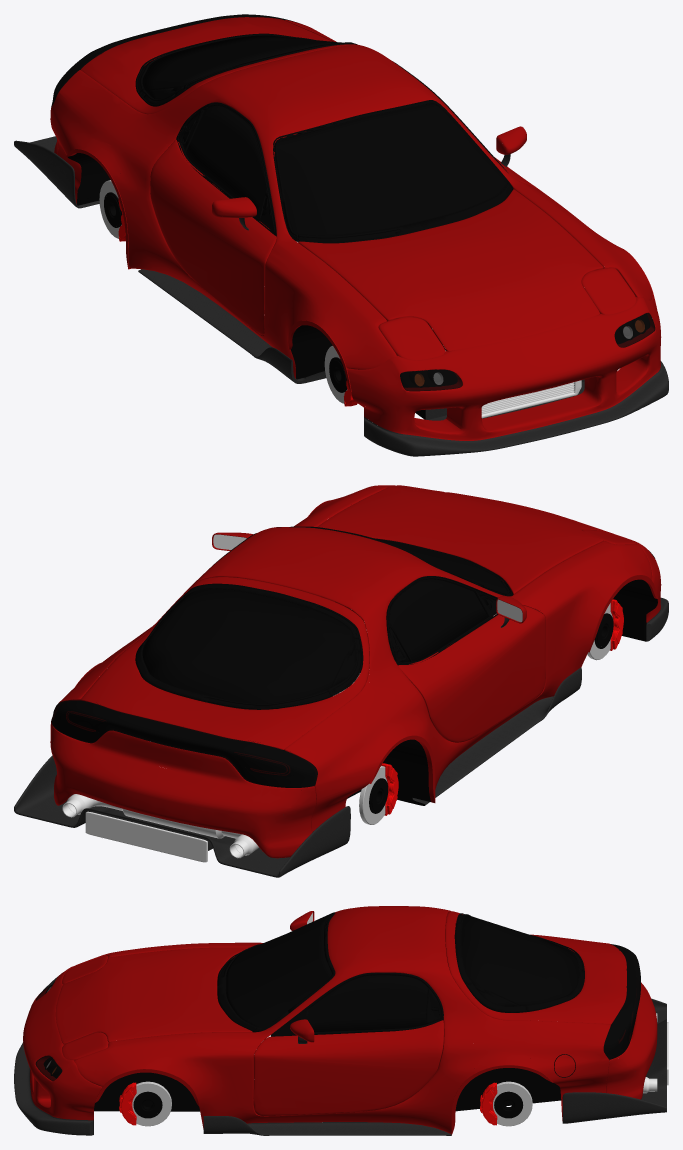
File: Car.glb
3 renders of one model, top to bottom at view 1: azimuth 30°, elevation 25°; view 2: azimuth 150°, elevation 25°; view 3: azimuth 270°, elevation 25°, orthographic. The views are drawn at different scales.
Parts seen in each view (by area): view 1: Karoseria, Szyby, Podwozie, Gumy_od_szyb, Nadkola, Szkla_przod, Chlodnica, Panel_swiatel, Swiatla, Hamulec_tyl, Hamulec_przod; view 2: Karoseria, Szyby, Podwozie, Panel_swiatel, Gumy_od_szyb, Nadkola, Tablica_rejestracyjna_tekst, Wydech, Hamulec_tyl, Hamulec_przod, Lusterka, Tablica_rejestracyjna; view 3: Karoseria, Szyby, Podwozie, Gumy_od_szyb, Nadkola, Panel_swiatel, Hamulec_przod, Hamulec_tyl, Szkla_przod.
Boxes of the visible parts, bbox=[...] form: Karoseria: bbox=[50, 17, 661, 440]; Szyby: bbox=[142, 35, 507, 235]; Podwozie: bbox=[14, 136, 668, 456]; Gumy_od_szyb: bbox=[135, 33, 513, 243]; Nadkola: bbox=[67, 153, 425, 419]; Szkla_przod: bbox=[400, 312, 655, 391]; Chlodnica: bbox=[481, 380, 581, 418]; Panel_swiatel: bbox=[51, 14, 299, 106]; Swiatla: bbox=[100, 17, 649, 387]; Hamulec_tyl: bbox=[99, 180, 125, 241]; Hamulec_przod: bbox=[324, 346, 357, 406]; Karoseria: bbox=[50, 485, 661, 858]; Szyby: bbox=[142, 538, 507, 703]; Podwozie: bbox=[14, 597, 668, 877]; Panel_swiatel: bbox=[51, 700, 317, 787]; Gumy_od_szyb: bbox=[135, 526, 513, 709]; Nadkola: bbox=[347, 579, 657, 805]; Tablica_rejestracyjna_tekst: bbox=[89, 813, 202, 860]; Wydech: bbox=[62, 794, 258, 858]; Hamulec_tyl: bbox=[359, 763, 398, 824]; Hamulec_przod: bbox=[587, 599, 623, 660]; Lusterka: bbox=[213, 534, 522, 621]; Tablica_rejestracyjna: bbox=[85, 811, 207, 862]; Karoseria: bbox=[23, 906, 657, 1134]; Szyby: bbox=[226, 915, 578, 1032]; Podwozie: bbox=[14, 998, 666, 1135]; Gumy_od_szyb: bbox=[217, 912, 584, 1036]; Nadkola: bbox=[93, 1054, 575, 1134]; Panel_swiatel: bbox=[603, 944, 640, 1059]; Hamulec_przod: bbox=[119, 1081, 171, 1126]; Hamulec_tyl: bbox=[480, 1081, 532, 1126]; Szkla_przod: bbox=[35, 976, 62, 1081].
Size of the model in its own units: 5.14 by 2.98 by 11.69.
Materials: 17 (1 with a texture image).
